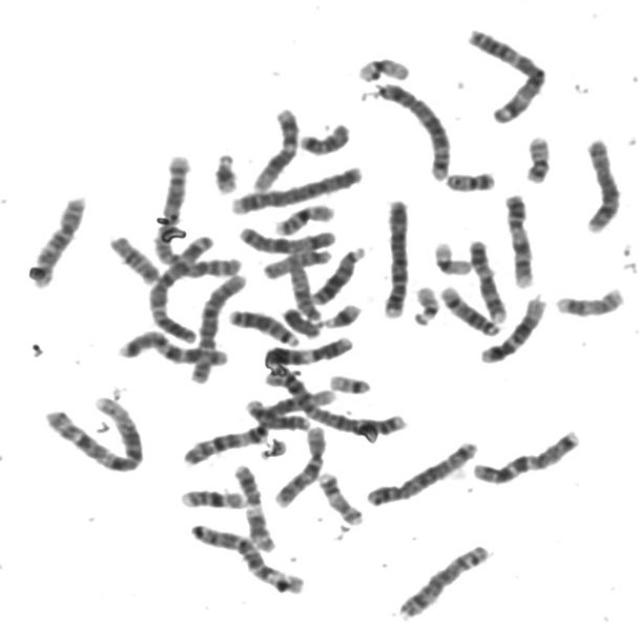A1: (176, 380, 340, 468), (38, 390, 146, 474)
A2: (149, 149, 245, 281), (260, 359, 408, 439)
A3: (460, 20, 551, 125), (143, 229, 215, 344)
B4: (224, 158, 366, 216), (376, 192, 412, 321)
B5: (368, 75, 454, 182), (360, 434, 480, 508)
C10: (22, 189, 88, 288), (268, 419, 329, 508)
C11: (227, 457, 277, 553), (260, 329, 356, 367)
C12: (475, 290, 550, 365), (246, 100, 303, 192)
C6: (184, 517, 306, 596), (184, 266, 251, 386)
C7: (466, 423, 582, 486), (114, 324, 231, 367)
C8: (391, 538, 492, 622), (578, 130, 623, 235)
C9: (462, 232, 510, 326), (498, 187, 537, 289)
D13: (306, 239, 369, 306), (222, 302, 302, 348)
D14: (434, 278, 503, 338), (239, 392, 314, 433)
D15: (256, 242, 334, 281), (282, 260, 324, 322)
E16: (268, 198, 336, 237), (173, 481, 249, 510)
E17: (311, 464, 366, 526), (548, 280, 628, 318)
E18: (103, 228, 162, 286), (293, 115, 353, 156)
F19: (351, 50, 413, 84), (427, 234, 475, 276)
F20: (518, 128, 554, 185), (438, 164, 498, 194)
G21: (207, 145, 241, 196), (317, 296, 363, 329)
G22: (407, 278, 442, 327), (324, 368, 374, 396)
X: (232, 220, 336, 254)
Y: (275, 300, 324, 340)
